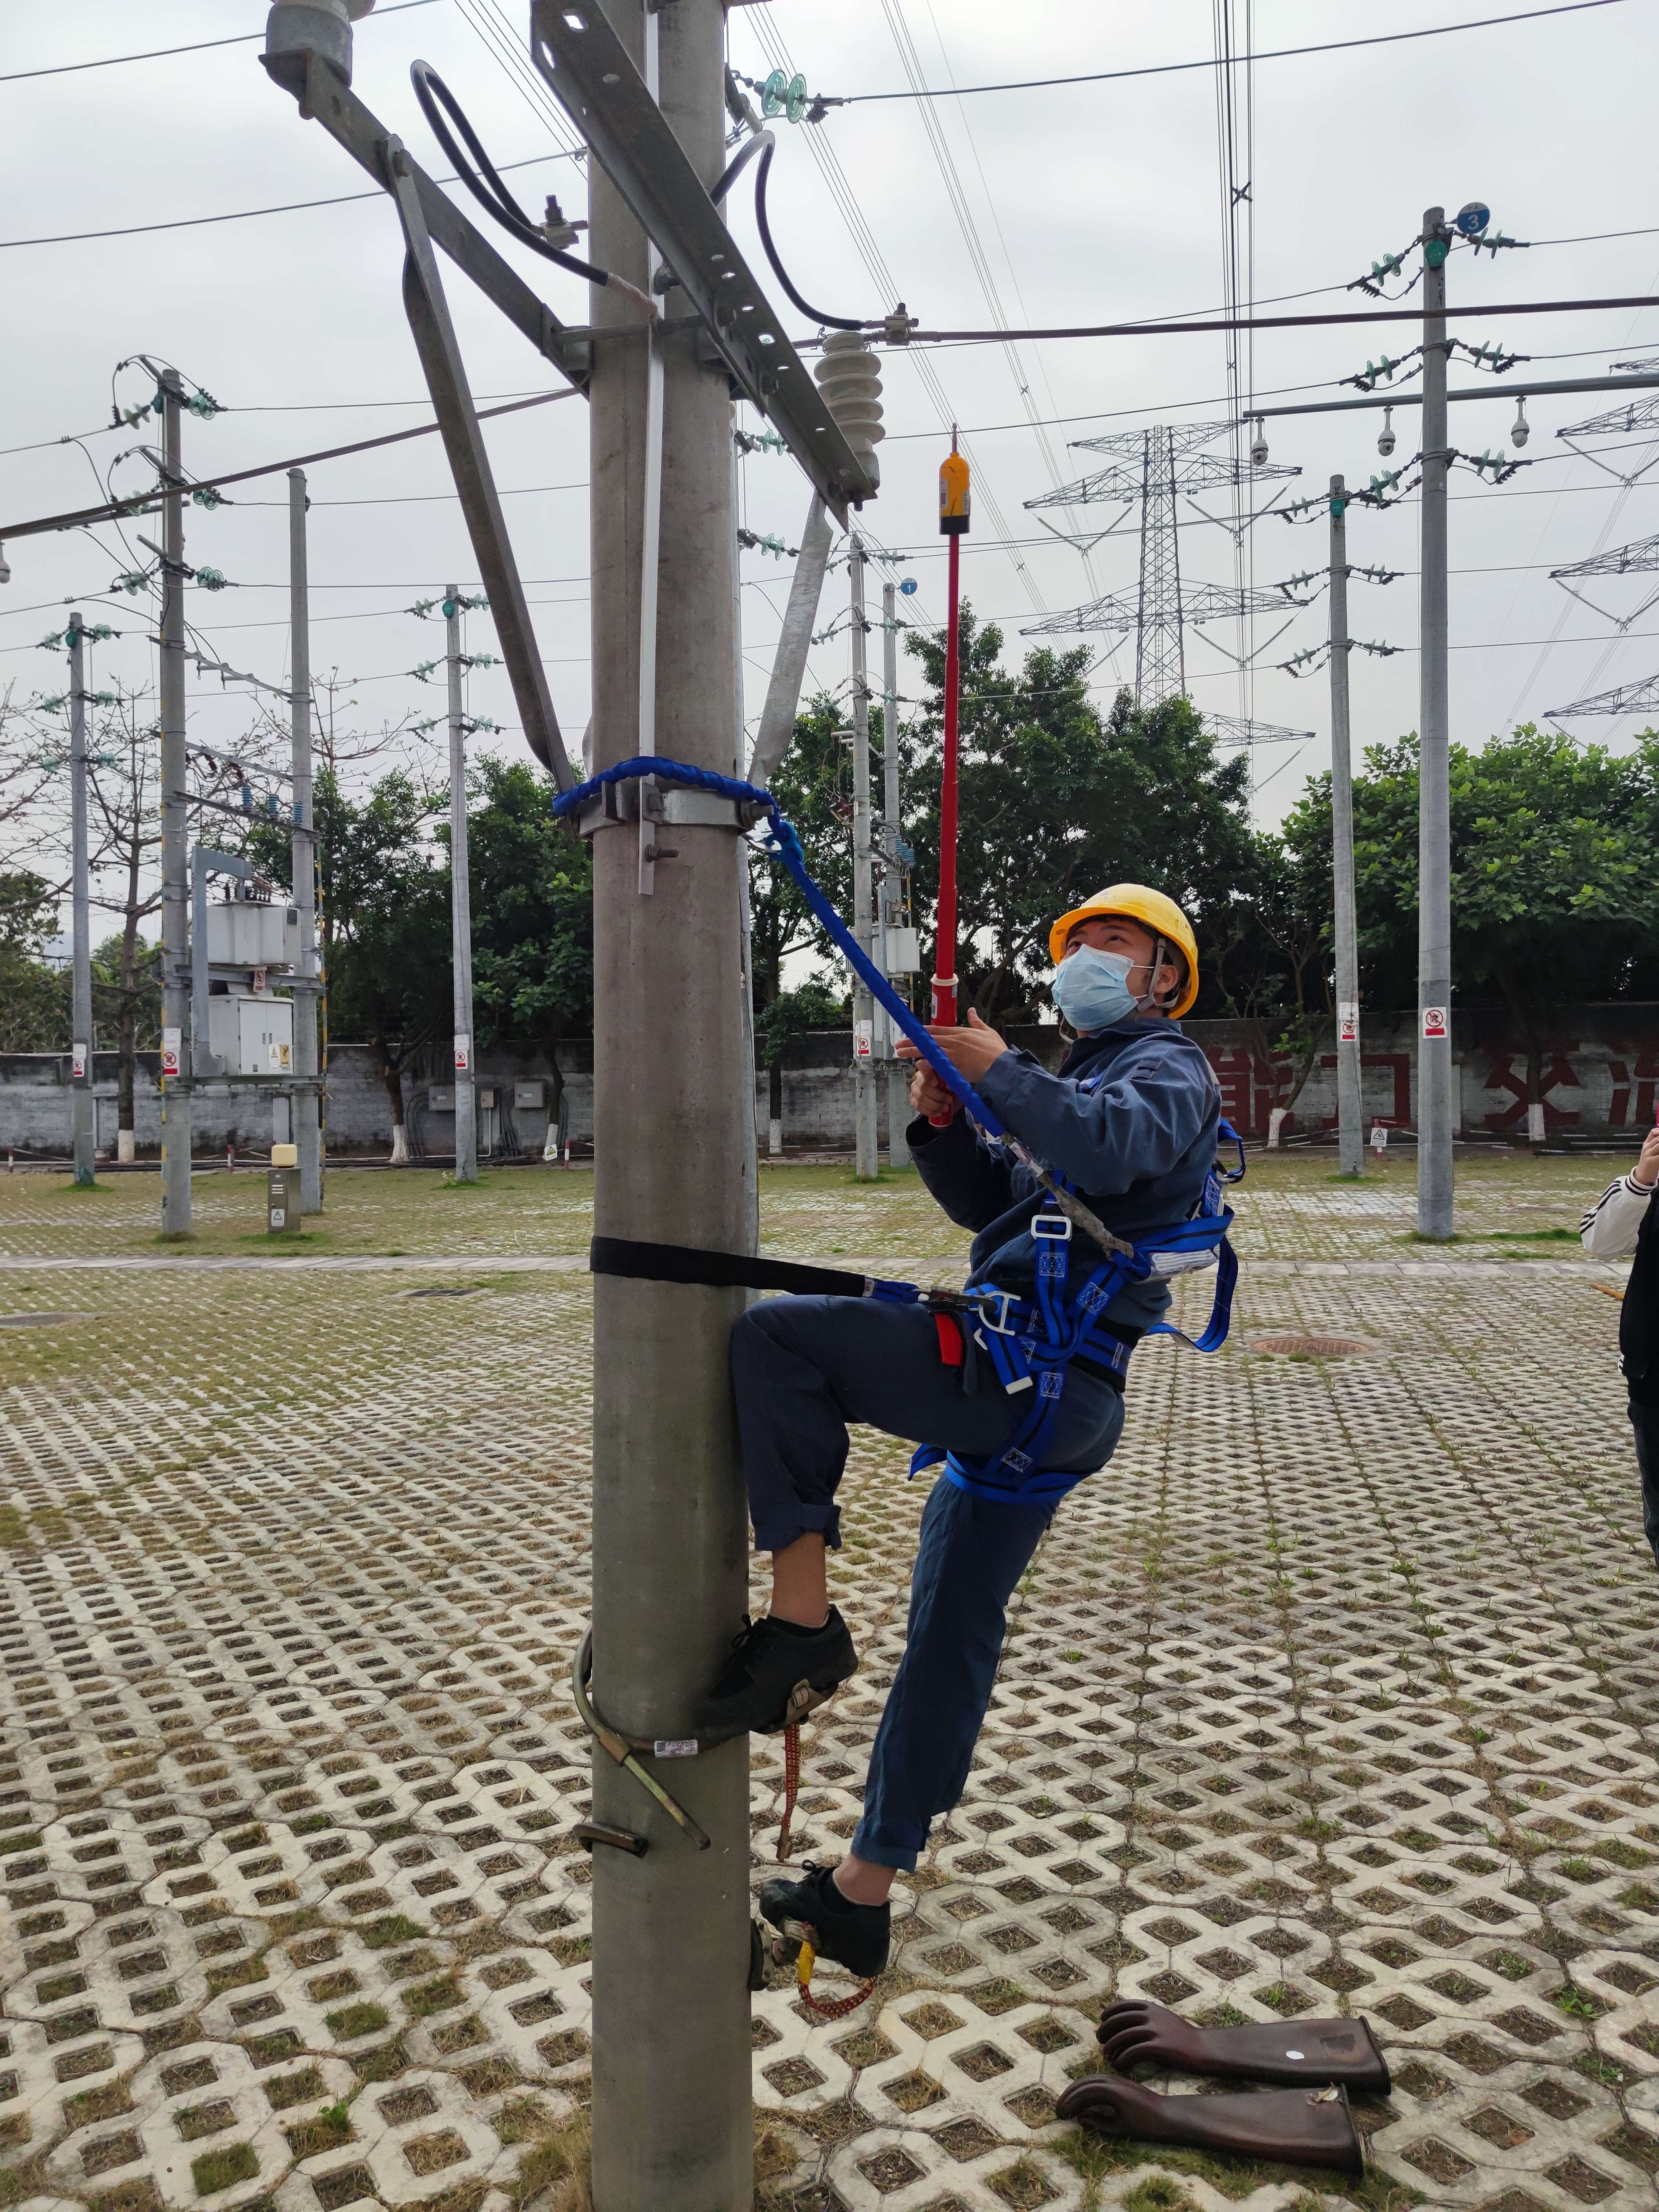downsuit: (737, 1292, 1140, 1851)
upsuit: (911, 1024, 1232, 1348)
wrongbottom: (819, 1738, 960, 1918), (749, 1440, 852, 1634)
